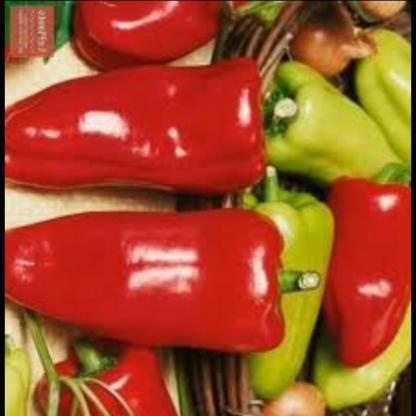bell pepper: (6, 208, 320, 361), (7, 41, 278, 196), (261, 58, 412, 213), (323, 172, 412, 406), (239, 186, 338, 394), (26, 336, 185, 416), (63, 0, 250, 68), (353, 10, 412, 149)
